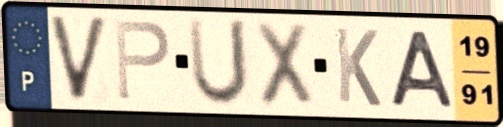A: (387, 28, 458, 110)
K: (332, 24, 384, 110)
P: (112, 17, 173, 103)
U: (185, 15, 251, 111)
V: (44, 12, 112, 105)
X: (252, 19, 317, 112)
